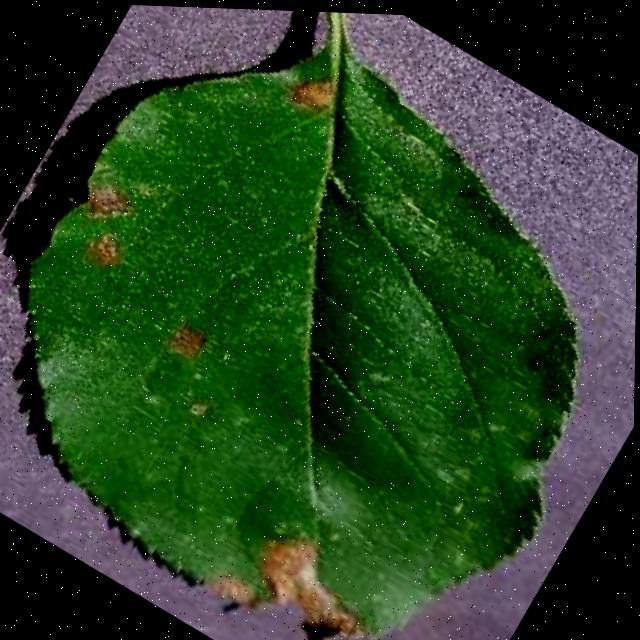black_rot: (197, 489, 411, 640), (144, 294, 238, 393), (270, 51, 365, 145), (65, 214, 147, 299), (77, 157, 159, 240)
